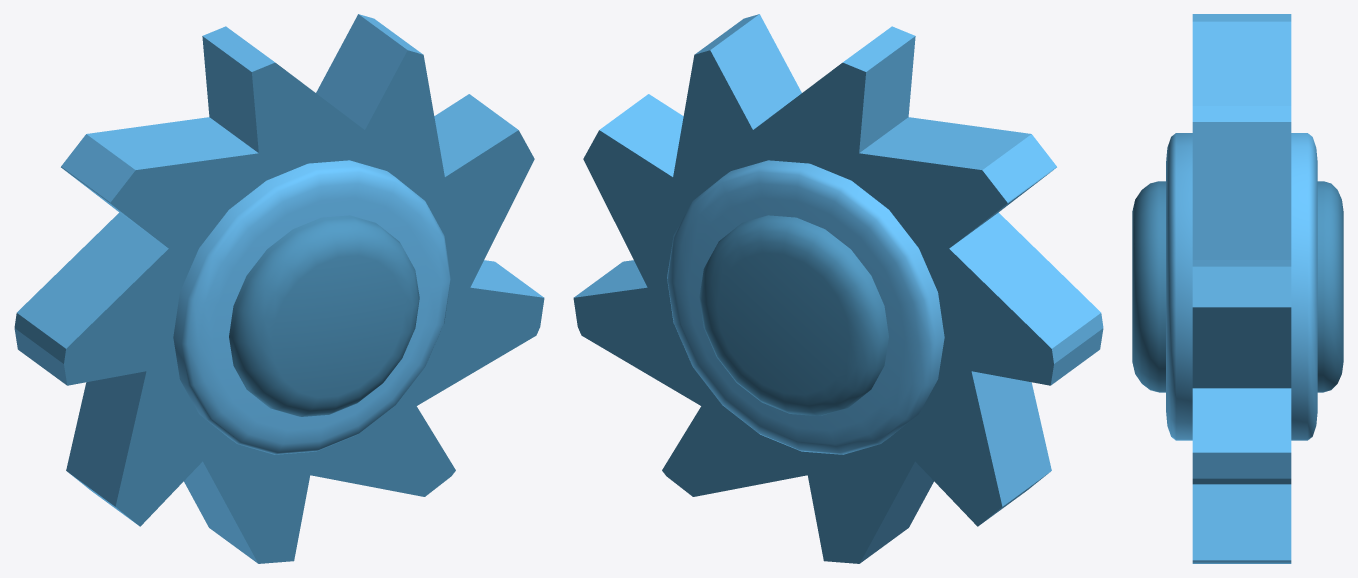
Rendered from barrier-8.fbx.
The picture shows the model from 3 angles, left to right: view 1: azimuth 30°, elevation 25°; view 2: azimuth 150°, elevation 25°; view 3: azimuth 270°, elevation 25°; orthographic projection.
Visible parts, largest first — view 1: Cylinder.007; view 2: Cylinder.007; view 3: Cylinder.007.
Part boxes in pixels (<box>): Cylinder.007: <box>14,14,544,563</box>; Cylinder.007: <box>573,14,1103,563</box>; Cylinder.007: <box>1132,14,1343,563</box>.
Size of the model in its own units: 156 by 156 by 59.42.
